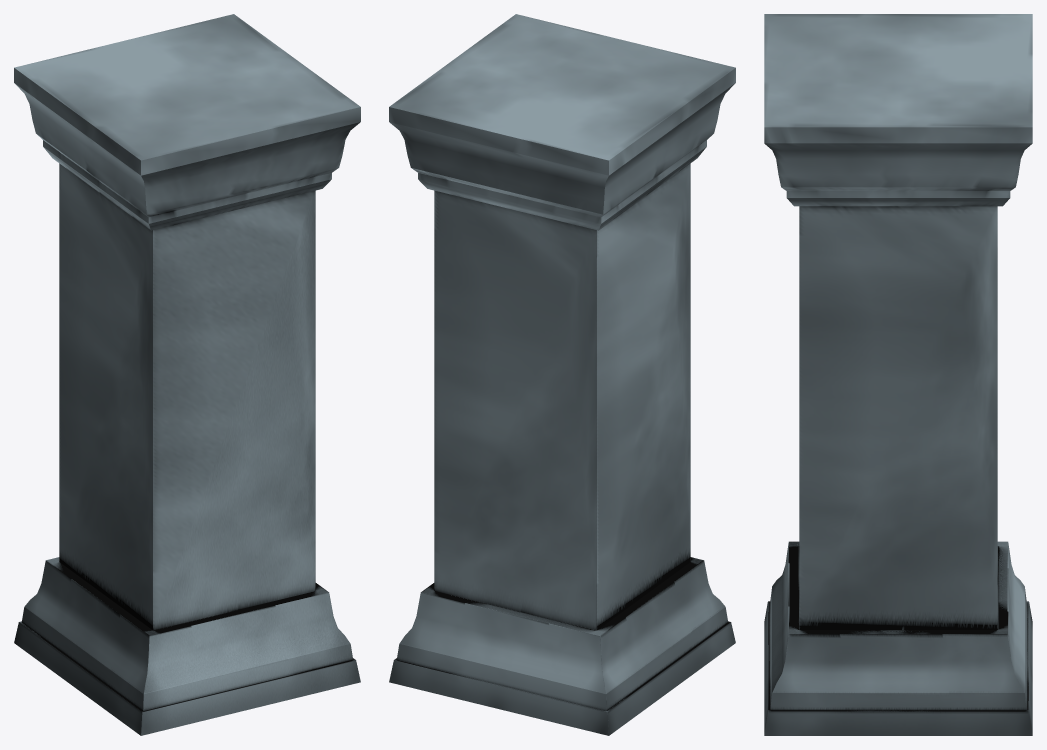
The model's file is Pillar.fbx.
3 views of the same model, side by side, from view 1: azimuth 30°, elevation 25°; view 2: azimuth 150°, elevation 25°; view 3: azimuth 270°, elevation 25° (orthographic). The views are drawn at different scales.
Visible parts, largest first — view 1: Cube.017; view 2: Cube.017; view 3: Cube.017.
Boxes of the visible parts, box(x1,y1,x2,y2) form: Cube.017: box(14, 14, 360, 735); Cube.017: box(389, 14, 735, 735); Cube.017: box(764, 14, 1032, 735).
Size of the model in its own units: 80 by 200 by 80.
1 material, 1 textured.
